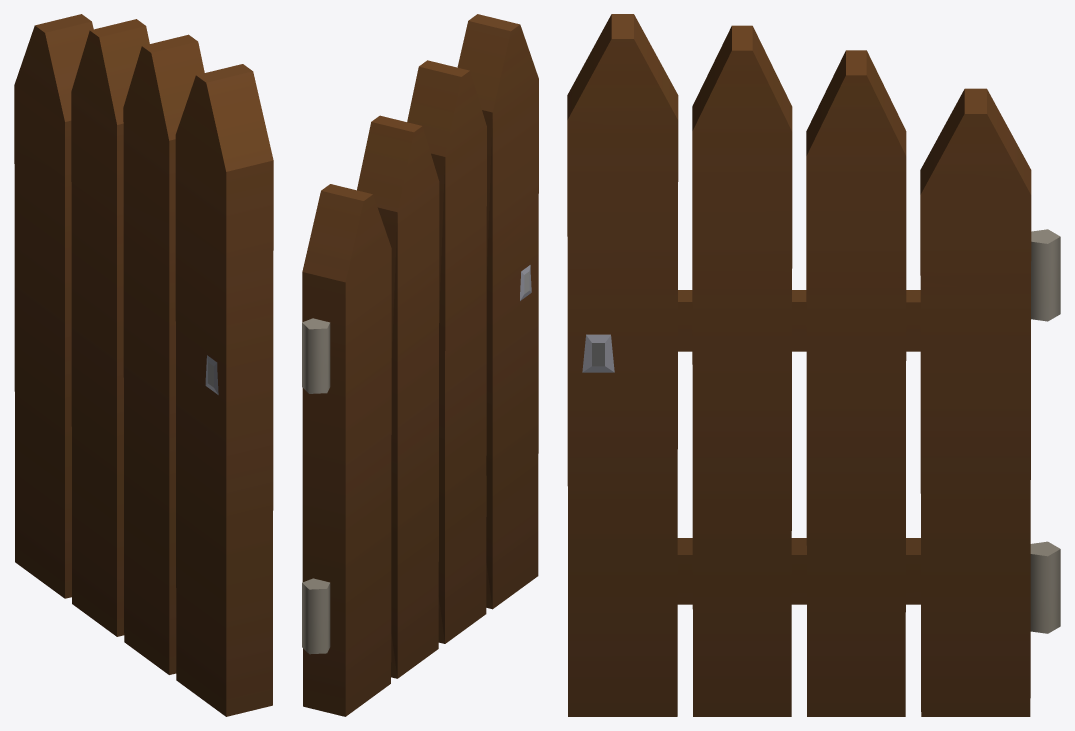
The model's file is Fence_1_C_3.fbx.
3 renders of one model, left to right at view 1: azimuth 30°, elevation 25°; view 2: azimuth 150°, elevation 25°; view 3: azimuth 270°, elevation 25°, orthographic. The views are drawn at different scales.
Visible parts, largest first — view 1: Fence_1_C_3; view 2: Fence_1_C_3; view 3: Fence_1_C_3.
Part boxes in pixels (<box>): Fence_1_C_3: <box>14,14,273,716</box>; Fence_1_C_3: <box>302,14,538,716</box>; Fence_1_C_3: <box>567,14,1060,716</box>.
Bounding box in the file's own units: 5.09 × 60.13 × 39.65.
